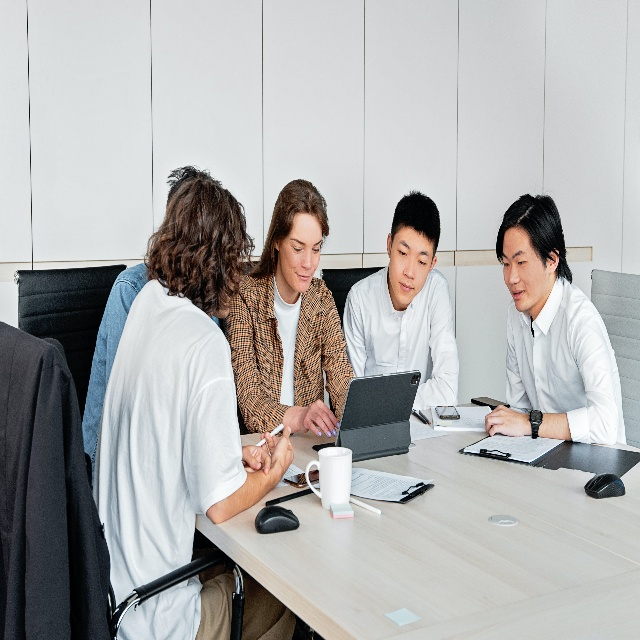Sin_guantes: (260, 427, 295, 488), (299, 396, 339, 438), (484, 403, 529, 438), (239, 444, 271, 475)
